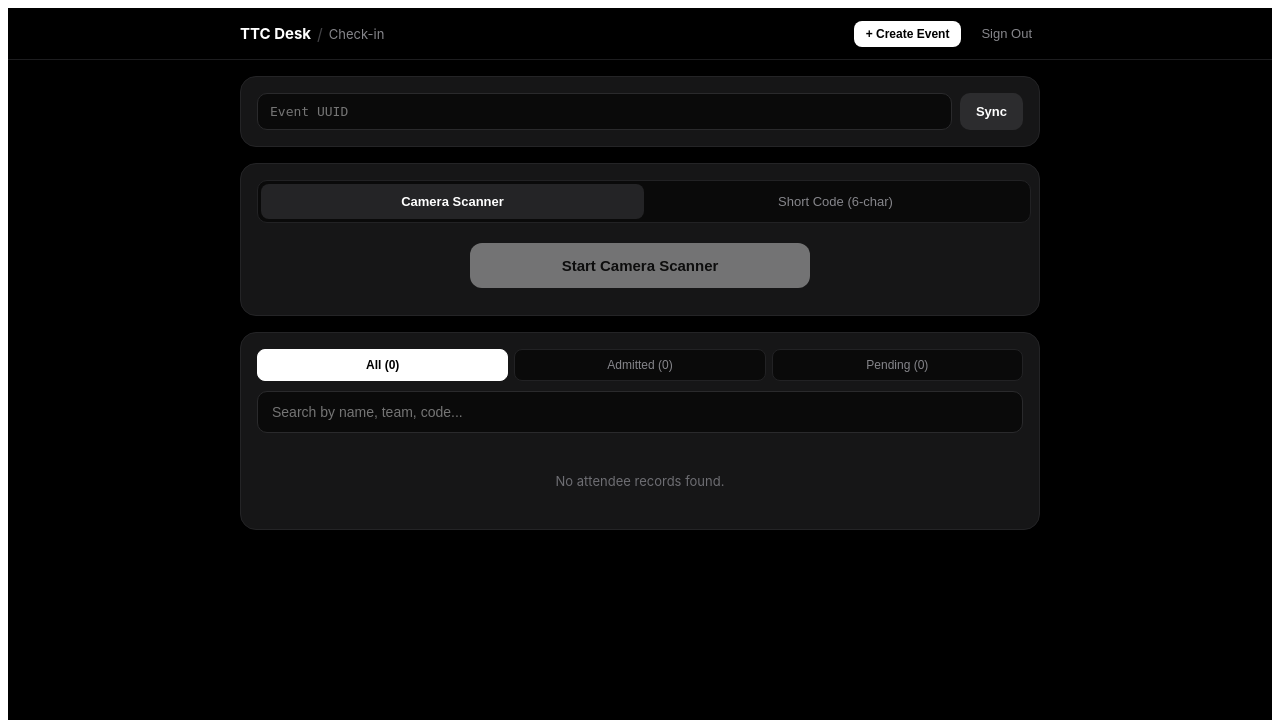
Test: CreateEventModal Tests › opens create event modal when clicking '+ Create Event' button in AttendanceDashboard
Step 1. Click the button "+ Create Event" → (908, 34), box [854,20,961,46]
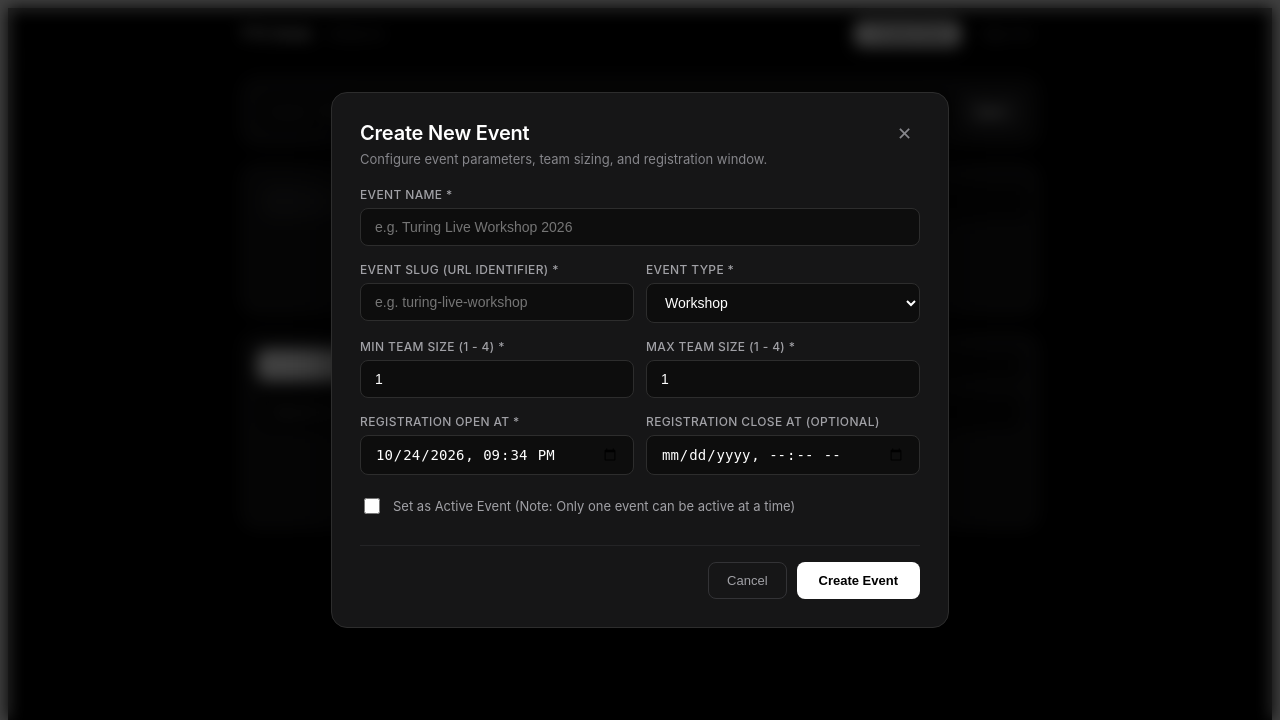
Now the heading "Create New Event" is shown, box [360,121,529,145]
